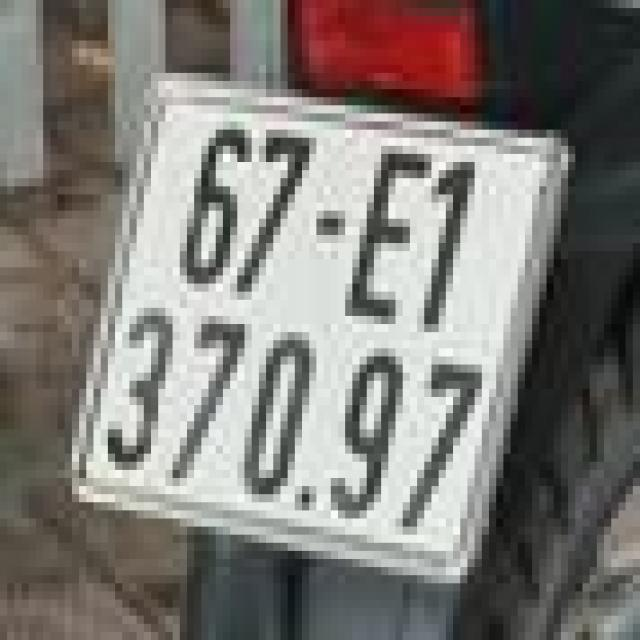0: (226, 317, 337, 508)
1: (405, 148, 504, 337)
3: (90, 293, 194, 473)
6: (170, 112, 266, 301)
7: (377, 349, 500, 544), (216, 115, 329, 308), (152, 304, 267, 481)
9: (313, 333, 422, 526)
E: (341, 137, 443, 328)
